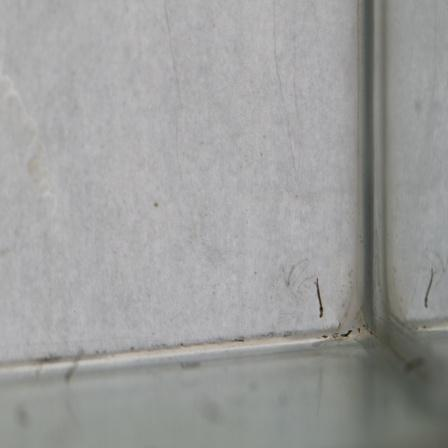Jentik-Nyamuk: (313, 274, 327, 323)
